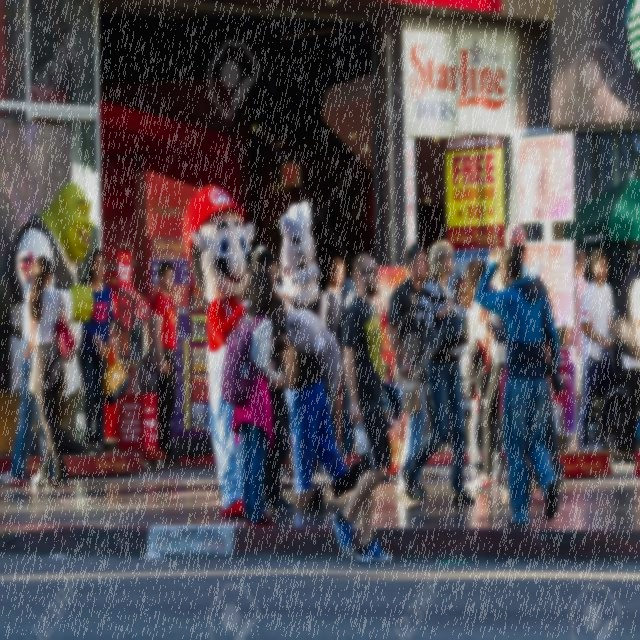pessoa: (182, 178, 354, 515), (474, 246, 566, 530), (8, 176, 96, 458), (398, 238, 478, 508), (329, 251, 397, 564), (502, 222, 568, 487), (220, 266, 286, 530), (1, 248, 58, 488), (384, 243, 432, 503), (27, 253, 79, 490), (462, 244, 508, 490), (252, 246, 294, 514), (464, 248, 506, 490), (577, 247, 621, 456), (78, 248, 117, 457), (340, 258, 375, 460), (610, 238, 640, 465), (148, 260, 179, 463), (564, 248, 590, 453), (318, 256, 346, 422), (459, 297, 483, 487), (518, 141, 548, 220), (628, 272, 640, 356), (528, 244, 551, 286)
